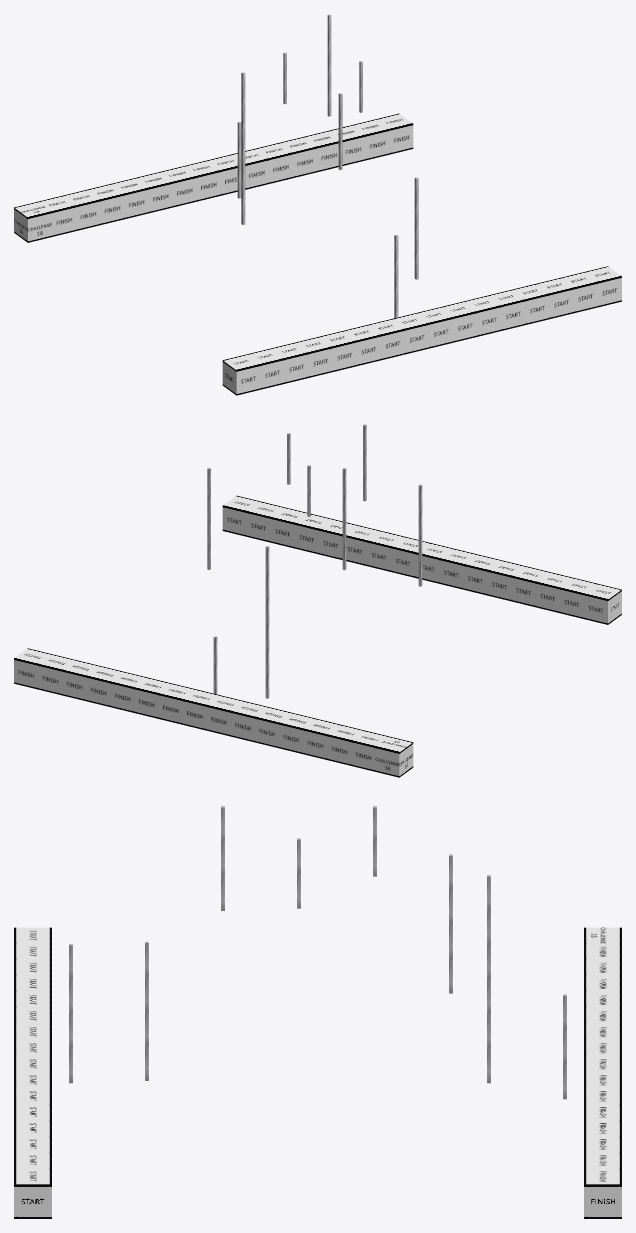
Rendered from challenge16_03.gltf.
3 views of the same model, one above another, from view 1: azimuth 30°, elevation 25°; view 2: azimuth 150°, elevation 25°; view 3: azimuth 270°, elevation 25° (orthographic). The views are drawn at different scales.
Visible parts, largest first — view 1: map; view 2: map; view 3: map.
Boxes of the visible parts, left/top/right/bottom form: map: left=14, top=14, right=621, bottom=395; map: left=14, top=424, right=621, bottom=777; map: left=14, top=806, right=621, bottom=1218.
Bounding box in the file's own units: 32 × 16 × 32.
Materials: 4 (4 with a texture image).
